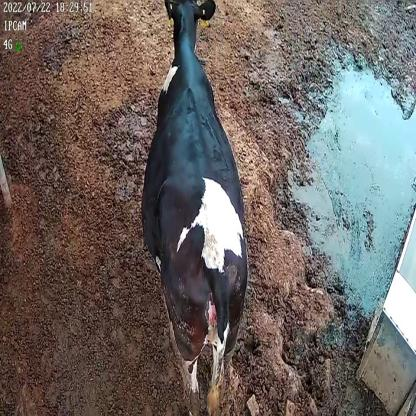cow: (140, 3, 249, 416)
